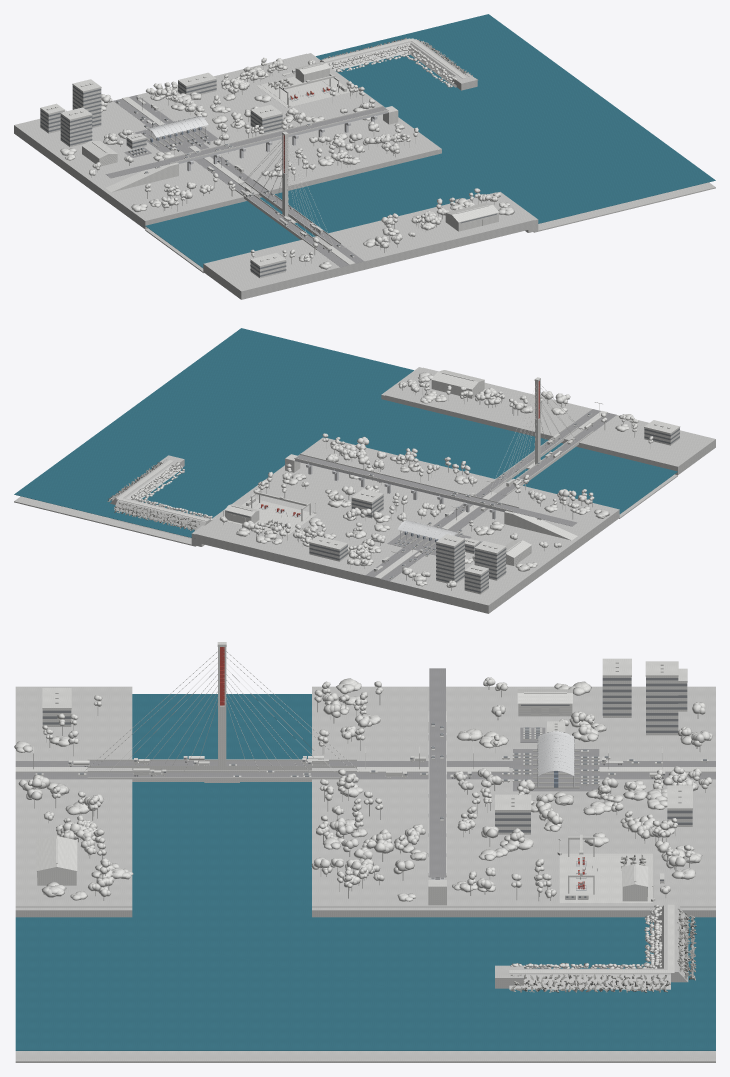
Rendered from plant-infra.glb.
The picture shows the model from 3 angles, top to bottom: view 1: azimuth 30°, elevation 25°; view 2: azimuth 150°, elevation 25°; view 3: azimuth 270°, elevation 25°; orthographic projection. The views are drawn at different scales.
Parts seen in each view (by area): view 1: ENV_Sea, ENV_Land, ENV_River, ENV_Land.001, ENV_SeaBed, ENV_Yard, ENV_FlyoverRoad, ENV_Breakwater, ENV_Office, ENV_Shed, ENV_Office.001, ENV_Apron (+13 smaller); view 2: ENV_Sea, ENV_Land, ENV_River, ENV_Land.001, ENV_Breakwater, ENV_SeaBed, ENV_FlyoverRoad, ENV_Office.001, ENV_Yard, ENV_Shed, ENV_Office, ENV_Ramp (+13 smaller); view 3: ENV_Sea, ENV_Land, ENV_River, ENV_Land.001, ENV_SeaBed, ENV_Shore, ENV_FlyoverRoad, ENV_Breakwater, ENV_Yard, ENV_Office.001, ENV_Stays, ENV_Shed (+17 smaller).
Boxes of the visible parts, x1,y1,x2,y2 form: ENV_Sea: [316, 14, 715, 223]; ENV_Land: [14, 53, 437, 229]; ENV_River: [145, 154, 490, 268]; ENV_Land.001: [203, 192, 534, 299]; ENV_SeaBed: [533, 182, 715, 232]; ENV_Yard: [257, 76, 349, 107]; ENV_FlyoverRoad: [106, 106, 387, 178]; ENV_Breakwater: [320, 38, 463, 87]; ENV_Office: [60, 107, 92, 146]; ENV_Shed: [445, 202, 499, 231]; ENV_Office.001: [72, 79, 101, 127]; ENV_Apron: [135, 126, 218, 152]; ENV_Sea: [14, 328, 413, 537]; ENV_Land: [195, 438, 619, 613]; ENV_River: [332, 400, 677, 513]; ENV_Land.001: [385, 367, 715, 474]; ENV_Breakwater: [110, 463, 211, 538]; ENV_SeaBed: [14, 496, 196, 546]; ENV_FlyoverRoad: [296, 455, 577, 526]; ENV_Office.001: [436, 534, 464, 583]; ENV_Yard: [227, 499, 316, 536]; ENV_Shed: [431, 370, 484, 398]; ENV_Office: [474, 541, 506, 580]; ENV_Ramp: [513, 513, 577, 540]; ENV_Sea: [15, 914, 715, 1050]; ENV_Land: [312, 686, 715, 907]; ENV_River: [132, 694, 311, 913]; ENV_Land.001: [15, 686, 132, 907]; ENV_SeaBed: [15, 1051, 715, 1062]; ENV_Shore: [312, 907, 715, 917]; ENV_FlyoverRoad: [429, 668, 445, 877]; ENV_Breakwater: [509, 905, 688, 989]; ENV_Yard: [559, 853, 652, 902]; ENV_Office.001: [645, 661, 678, 735]; ENV_Stays: [84, 651, 360, 771]; ENV_Shed: [36, 836, 77, 885].
Bounding box in the file's own units: 471 × 89.9 × 391.
32 materials, 30 textured.
